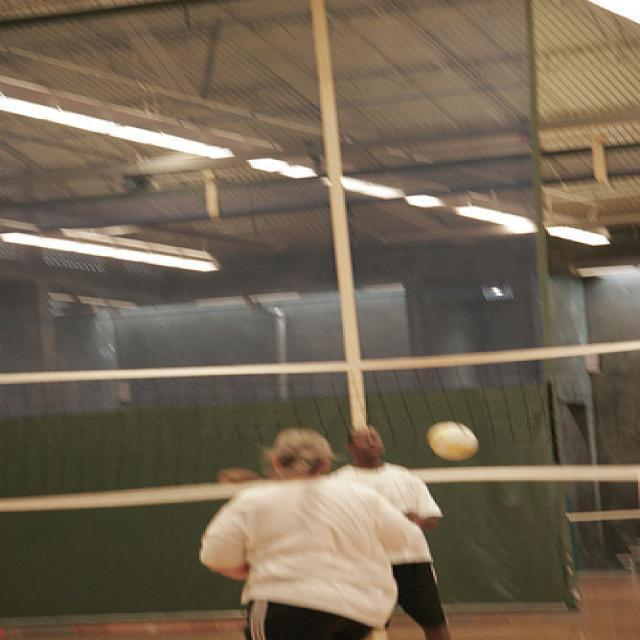volleyball: (427, 420, 479, 462)
